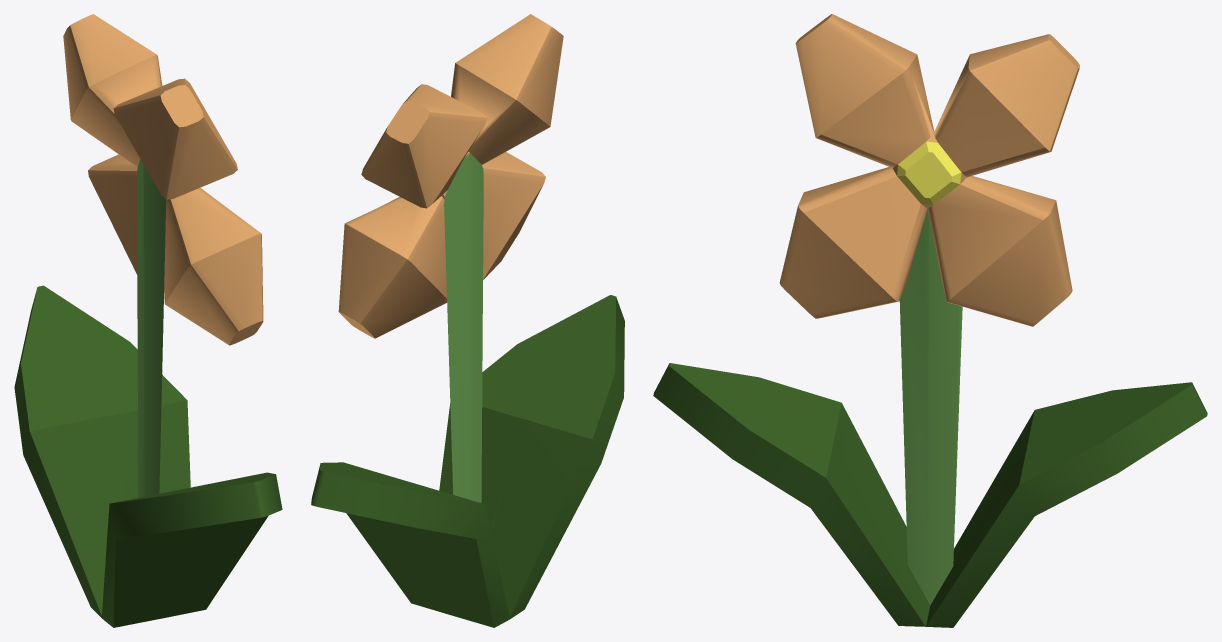
File: Flower01.fbx
The picture shows the model from 3 angles, left to right: view 1: azimuth 30°, elevation 25°; view 2: azimuth 150°, elevation 25°; view 3: azimuth 270°, elevation 25°; orthographic projection. The views are drawn at different scales.
Visible parts, largest first — view 1: Flower003; view 2: Flower003; view 3: Flower003.
Part boxes in pixels (left/top/right/bottom): Flower003: left=14, top=14, right=282, bottom=627; Flower003: left=311, top=14, right=624, bottom=627; Flower003: left=653, top=14, right=1207, bottom=627.
Bounding box in the file's own units: 3.36 × 10.88 × 9.43.
Materials: 1 (1 with a texture image).
